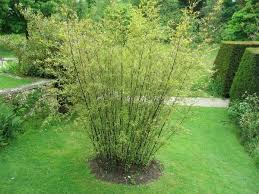bamboo: (37, 10, 219, 164)
